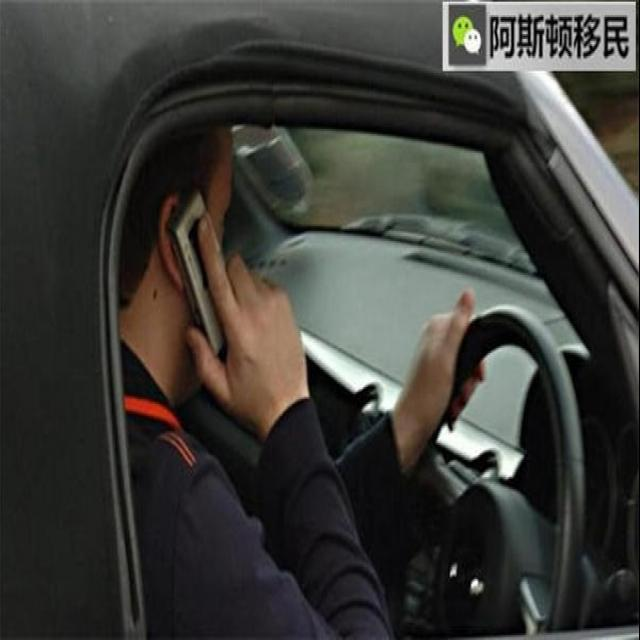phone: (162, 170, 313, 448)
